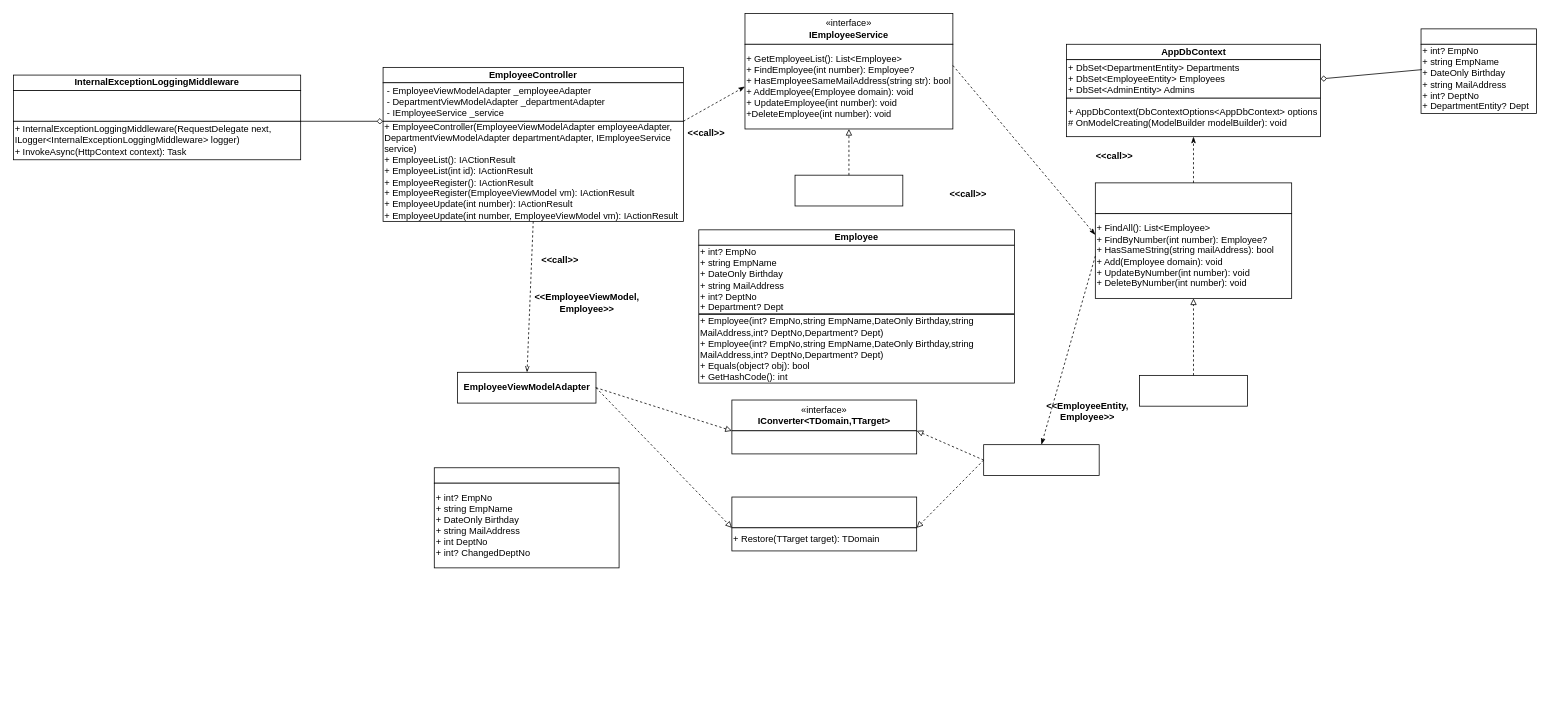
This 1550x708 diagram has some shape labels left out. Here are the shapes that lost their labels. From the top down, the box of each, then its label:
(1420, 28, 1537, 44): Employee Entity
(13, 90, 301, 121): - RequestDelegate _next - ILogger<InternalExceptionLoggingMiddleware> _logger
(794, 174, 903, 206): EmployeeService
(1095, 182, 1292, 214): «interface» IEmployeeRepository
(1139, 375, 1247, 406): Employee Repository
(731, 430, 917, 454): + Convert(TDomain domain): TTarget
(983, 444, 1099, 475): Employee EntityAdapter
(434, 467, 619, 483): EmployeeViewModel
(731, 496, 917, 528): «interface» IRestorer<TDomain,TTarget>
